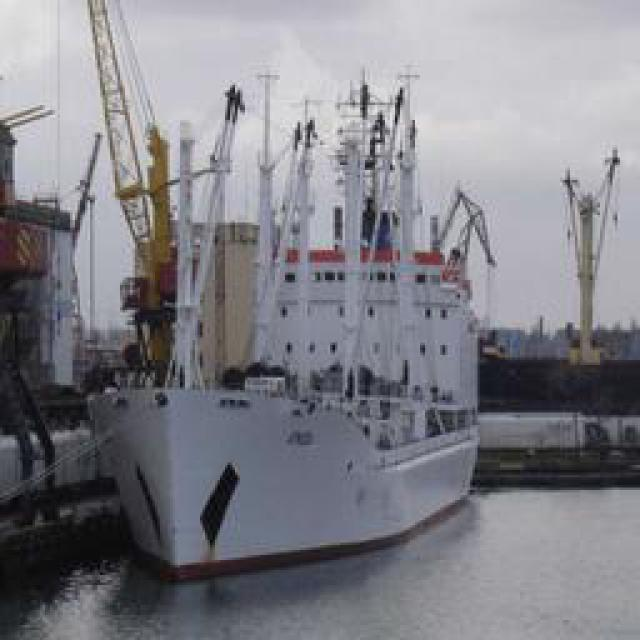Ship: (51, 8, 494, 596)
